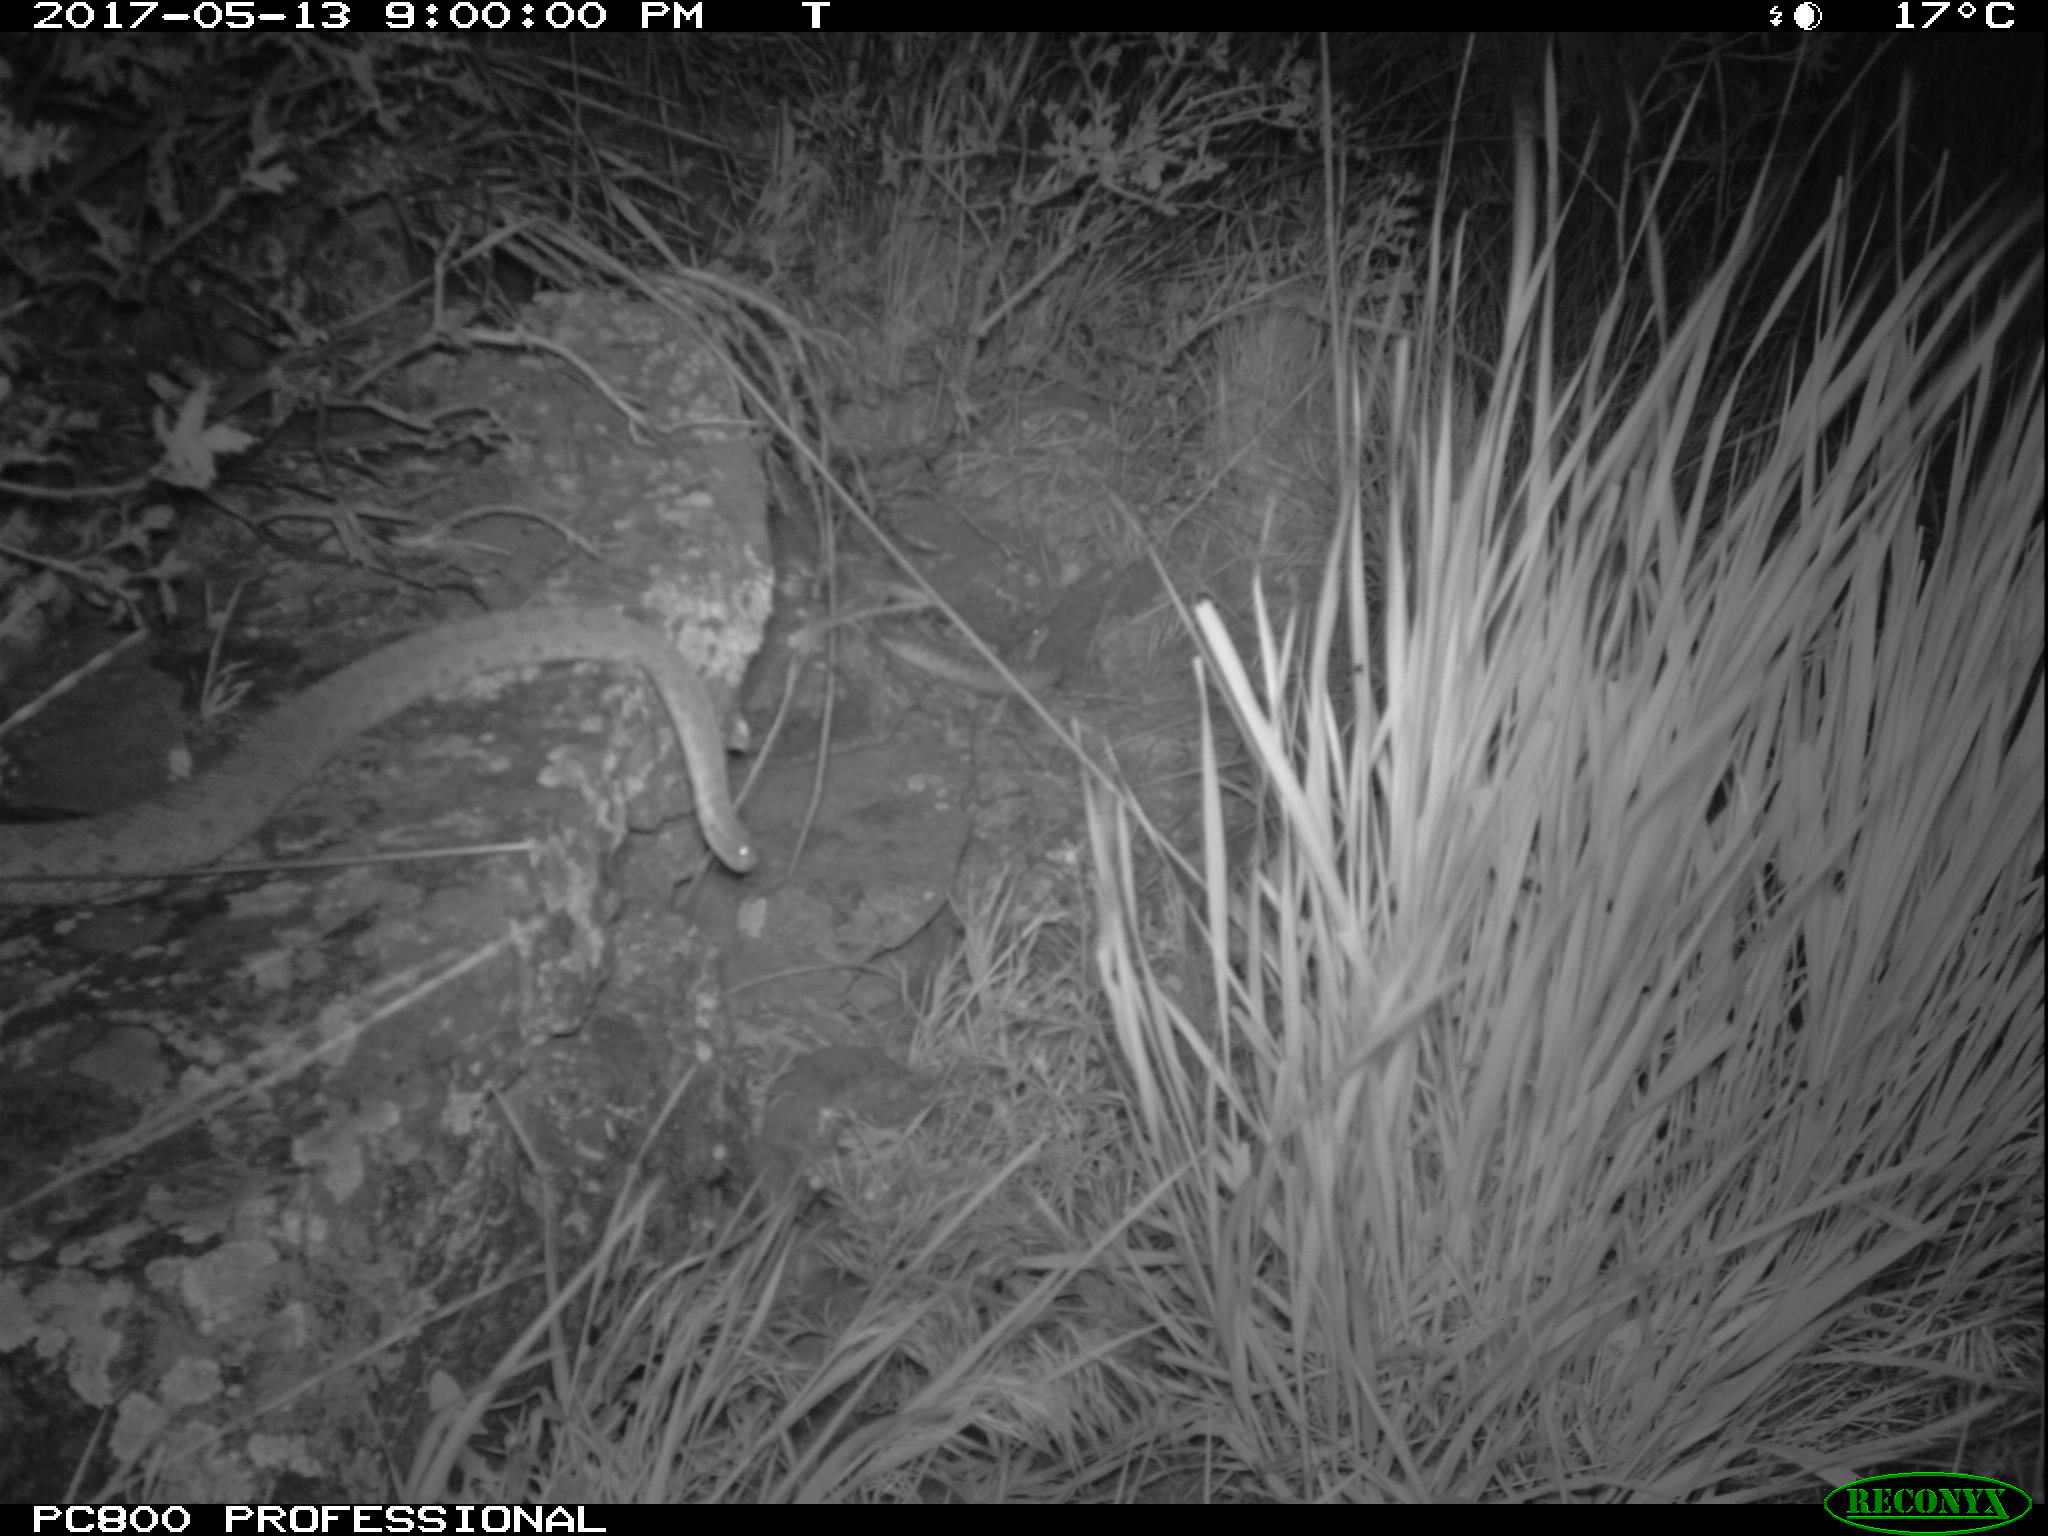snake: (2, 597, 764, 900), (876, 607, 1071, 695)
